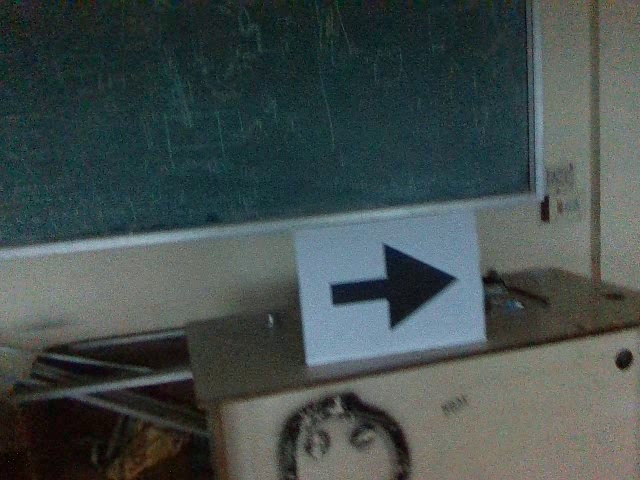Right: (320, 241, 462, 326)
